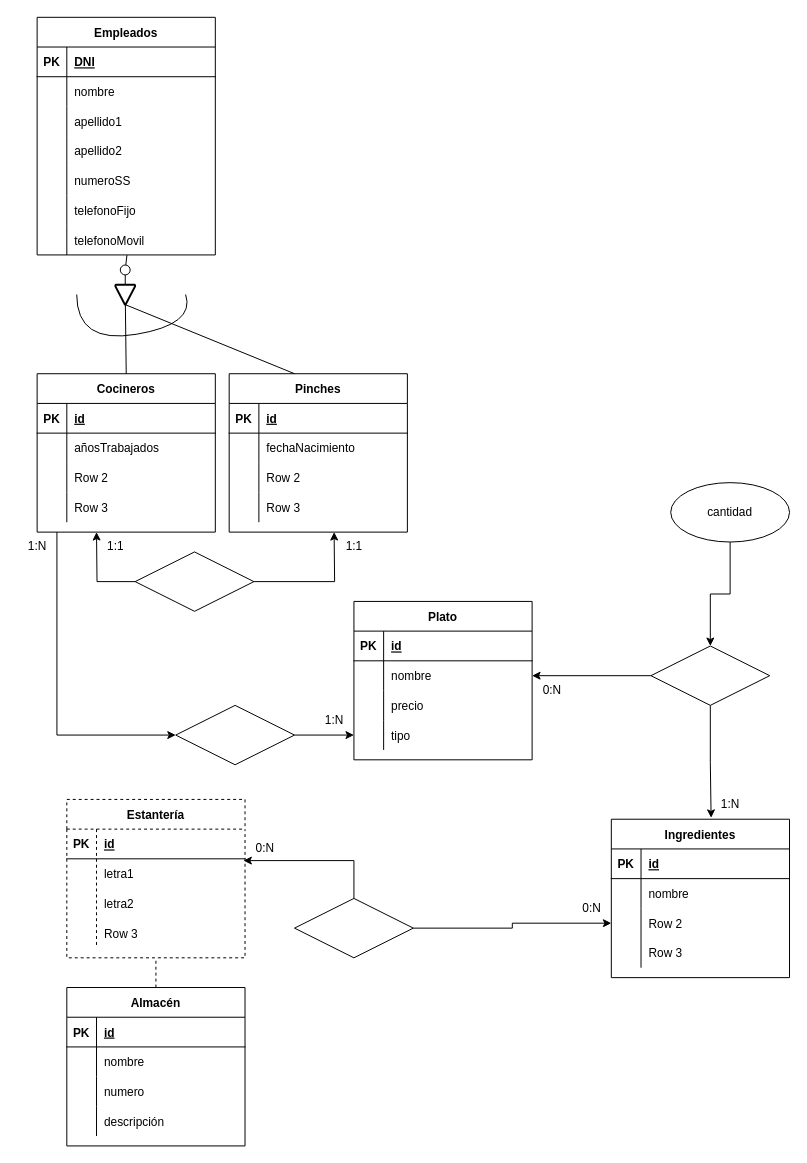
Some shapes in this 807 by 1163 pixel diagram are drawn without their labels. The centre of each missing label's shape, as x and y in pixels:
cargo: [194,581]
cocina: [235,734]
contiene: [353,927]
integra: [710,675]
